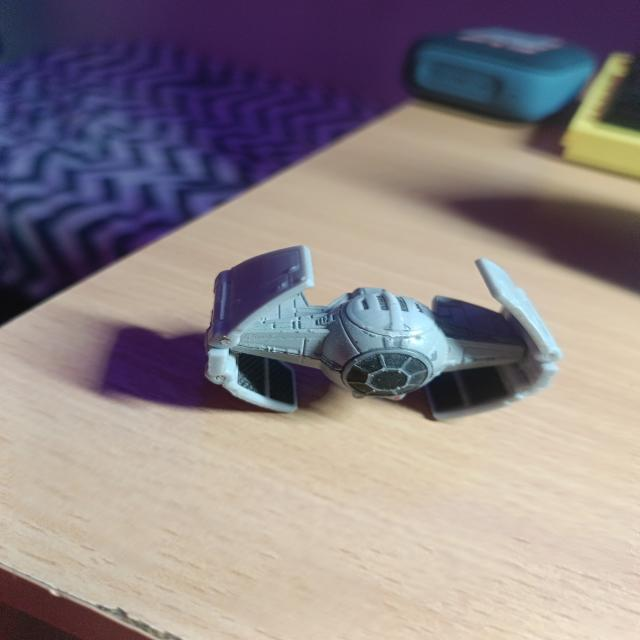tie fighter: (205, 246, 561, 420), (467, 308, 521, 342), (457, 328, 465, 339), (276, 328, 276, 329)
